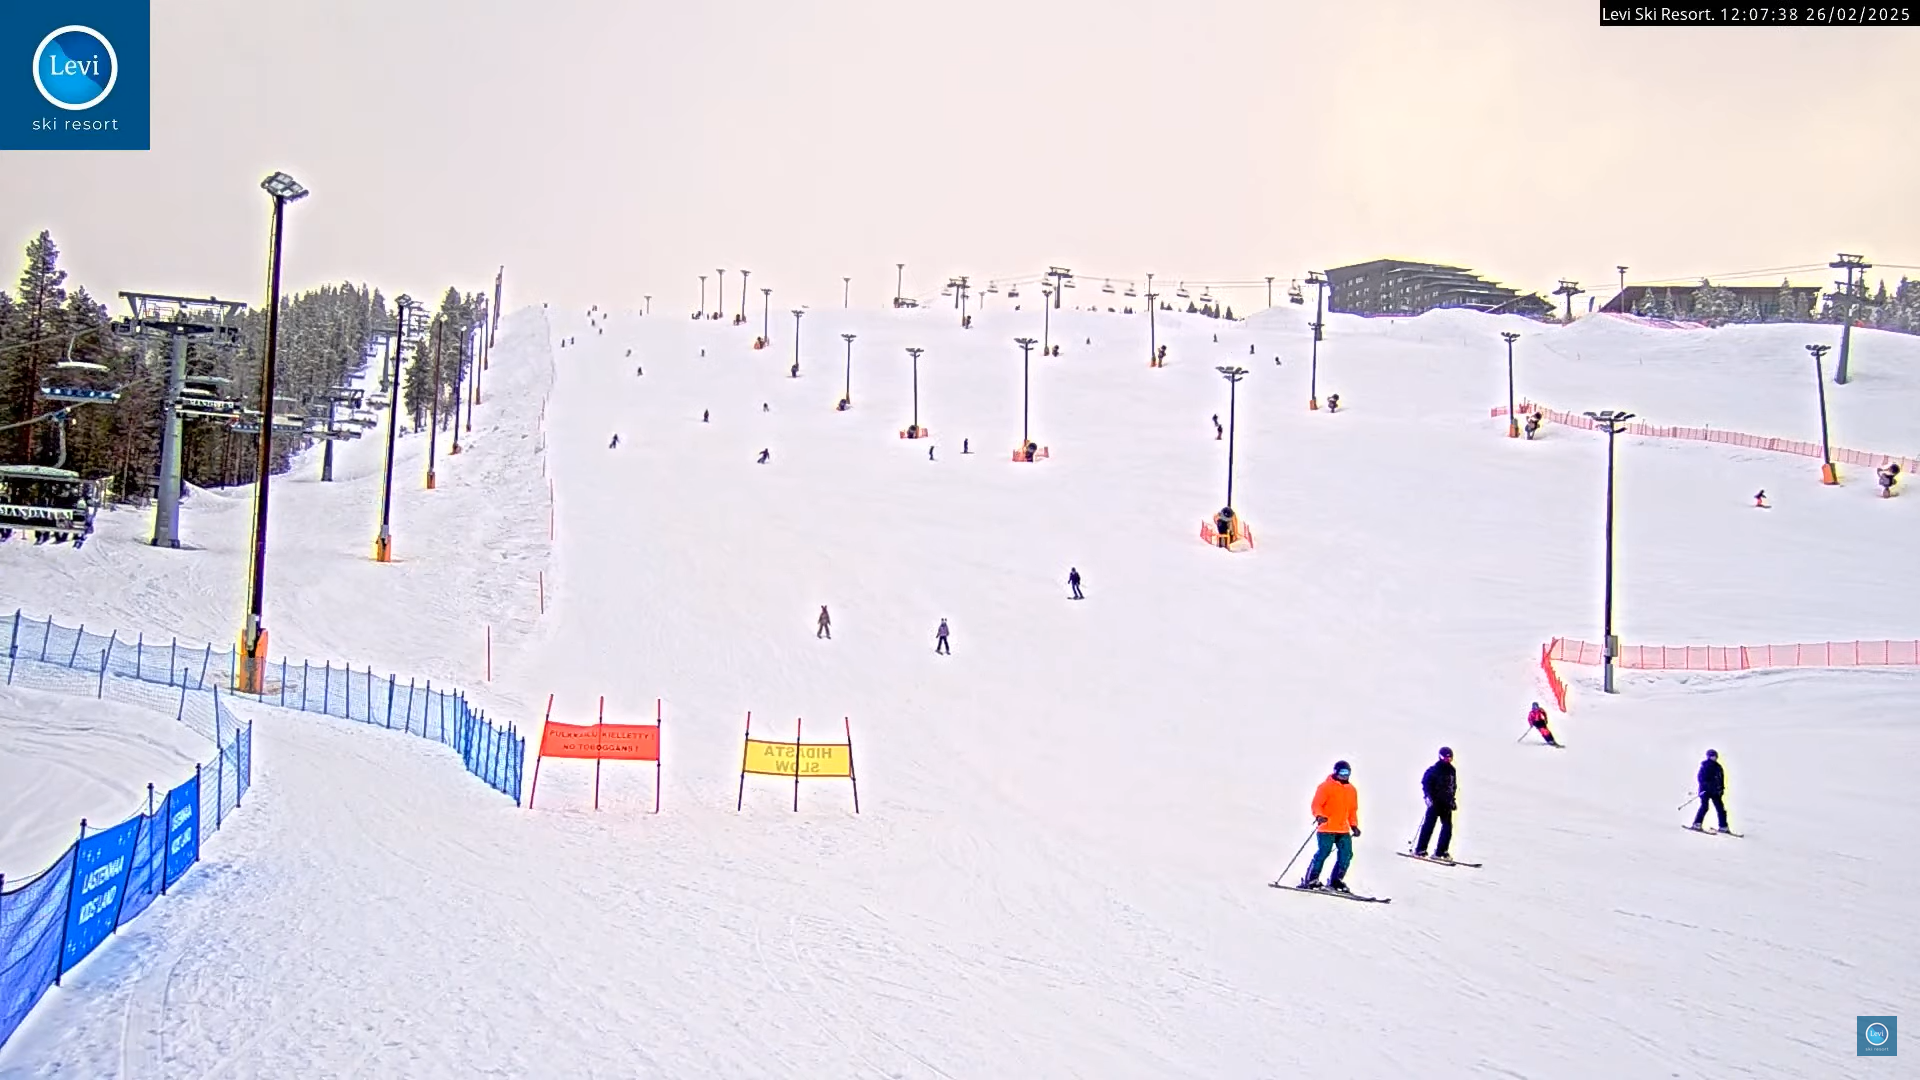skier: (1267, 758, 1393, 906), (1399, 748, 1494, 876), (1677, 748, 1746, 847)
